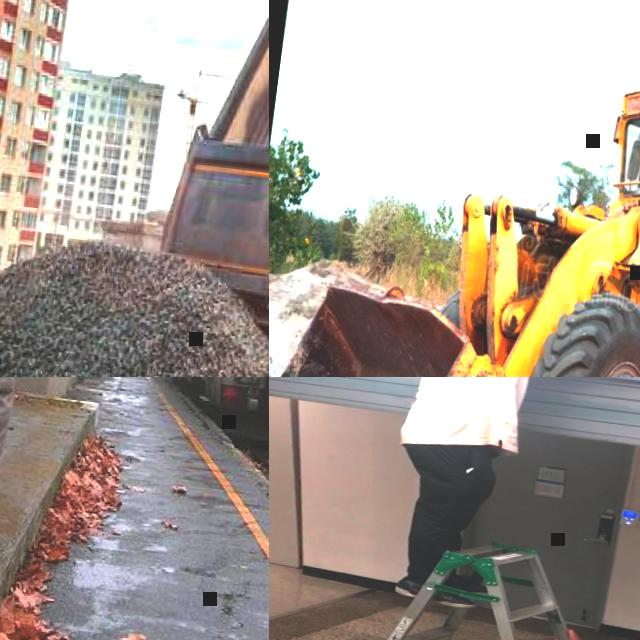machinery: (269, 7, 640, 377), (146, 0, 269, 377)
person: (381, 377, 589, 616)
vest: (401, 377, 539, 458)
